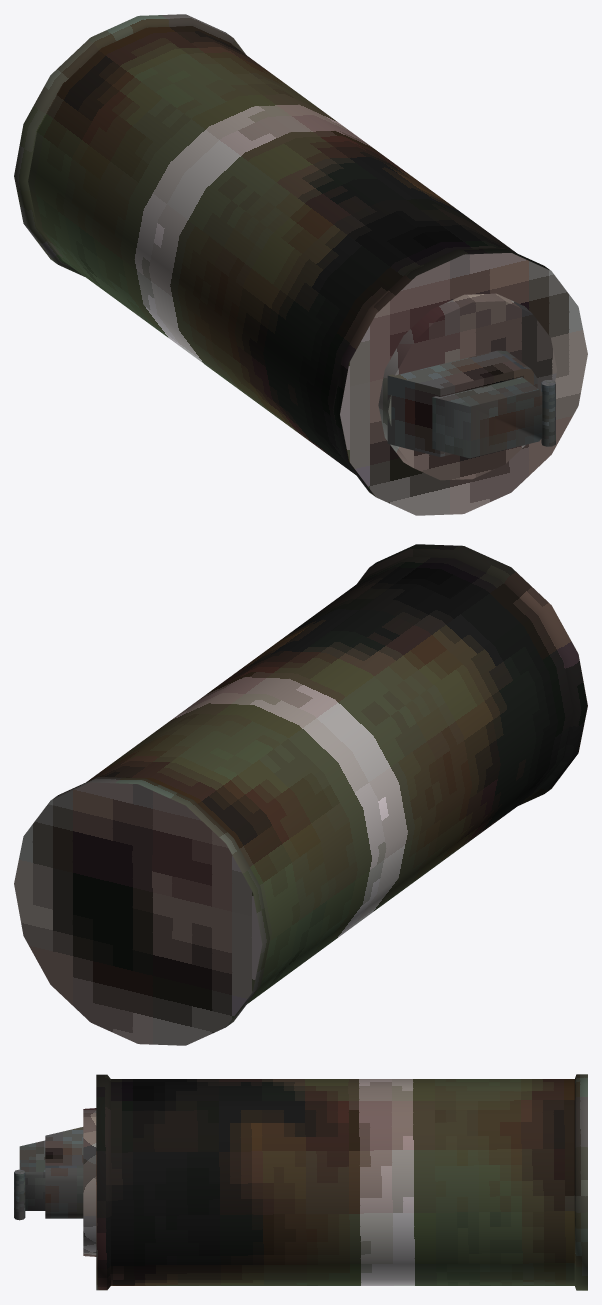
File: weapon_us_smoke_grenade_burnt_LOD0.obj
3 renders of one model, top to bottom at view 1: azimuth 30°, elevation 25°; view 2: azimuth 150°, elevation 25°; view 3: azimuth 270°, elevation 25°, orthographic. The views are drawn at different scales.
Visible parts, largest first — view 1: mtl_us_smoke_grenade_burnt; view 2: mtl_us_smoke_grenade_burnt; view 3: mtl_us_smoke_grenade_burnt.
Part boxes in pixels (x1,y1,x2,y2): mtl_us_smoke_grenade_burnt: [14, 14, 587, 515]; mtl_us_smoke_grenade_burnt: [14, 544, 587, 1045]; mtl_us_smoke_grenade_burnt: [14, 1074, 587, 1290].
Size of the model in its own units: 5.46 by 5.46 by 14.49.
